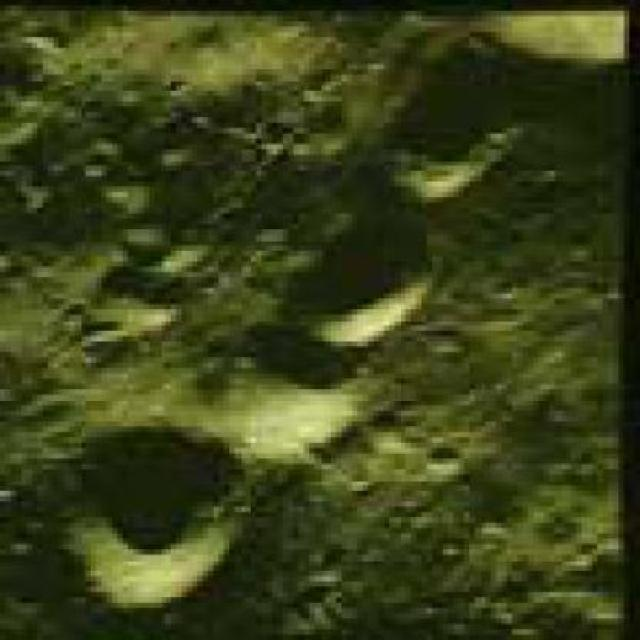crater: (62, 430, 243, 618)
